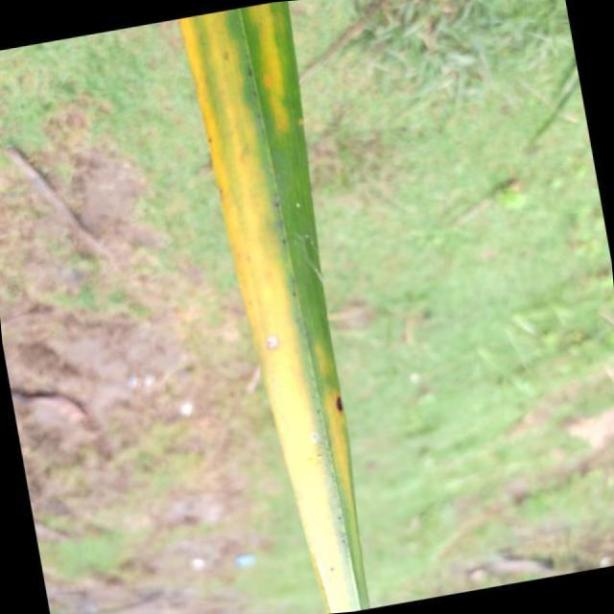Megnesium: (181, 0, 371, 614)
